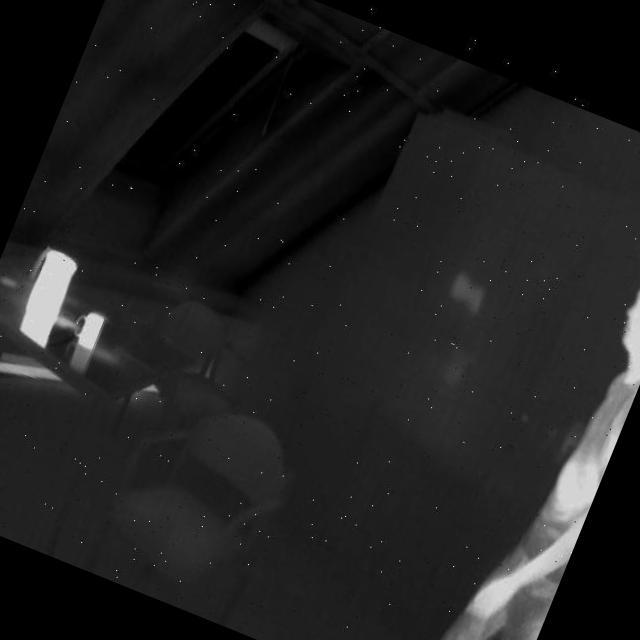person: (372, 222, 640, 640)
